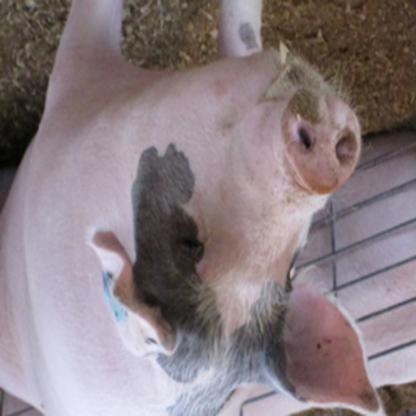boar: (0, 1, 386, 416)
